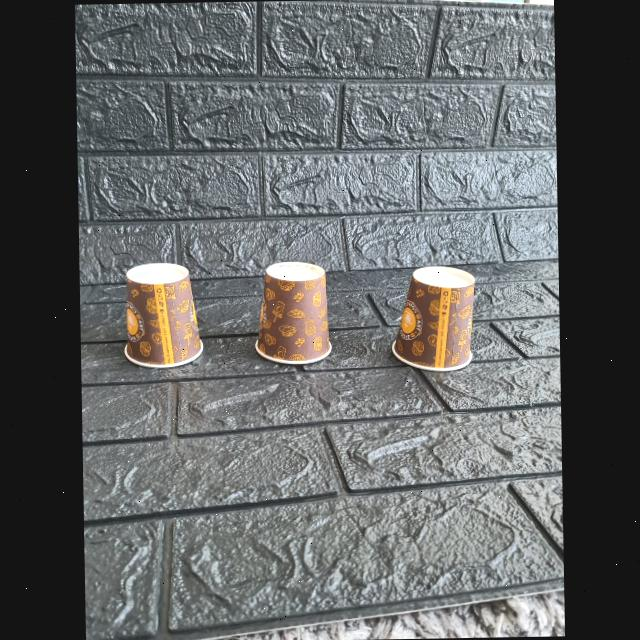trash: (388, 264, 492, 372), (114, 261, 202, 369), (250, 263, 332, 362)
